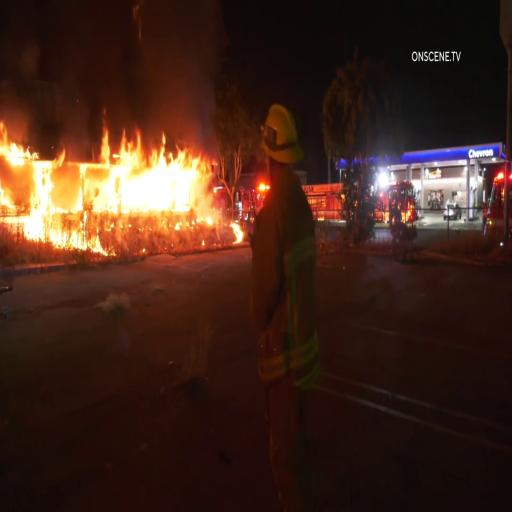fire: (94, 120, 214, 221), (0, 121, 74, 255)
